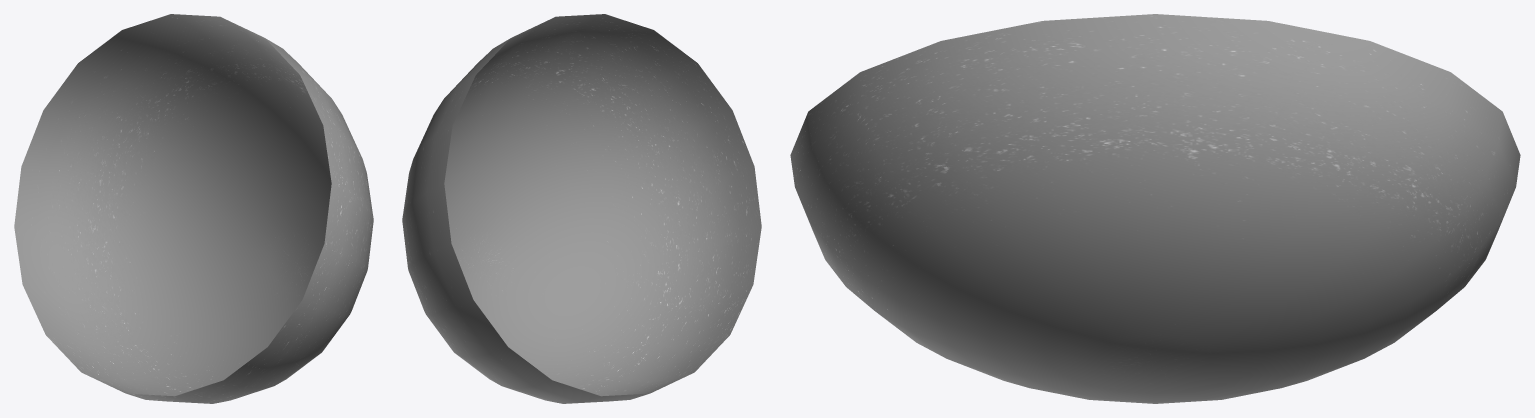
The model's file is antena.obj.
3 views of the same model, side by side, from view 1: azimuth 30°, elevation 25°; view 2: azimuth 150°, elevation 25°; view 3: azimuth 270°, elevation 25° (orthographic). The views are drawn at different scales.
Parts seen in each view (by area): view 1: pSphere1; view 2: pSphere1; view 3: pSphere1.
Boxes of the visible parts, box(x1,y1,x2,y2) form: pSphere1: box(14, 14, 373, 403); pSphere1: box(402, 14, 761, 403); pSphere1: box(790, 14, 1520, 403).
Bounding box in the file's own units: 0.5252 × 0.64 × 0.9608.
